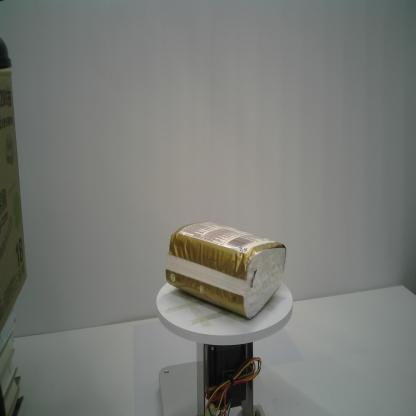Tissue: (165, 221, 287, 320)
